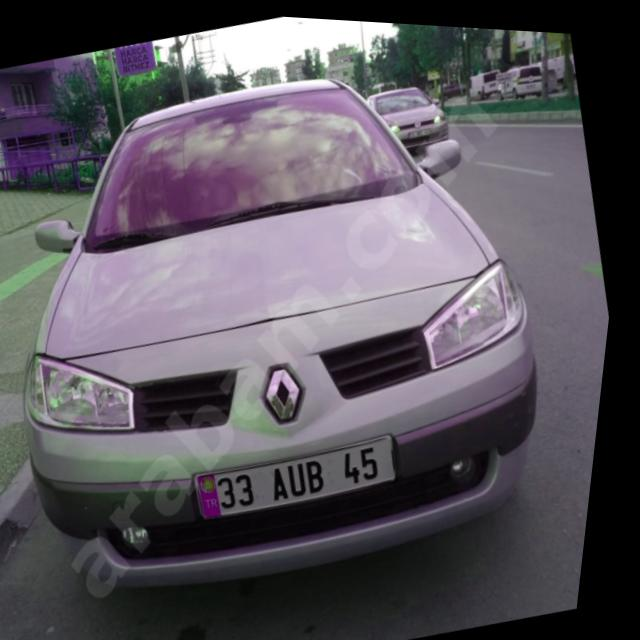license_plate: (203, 424, 411, 523)
